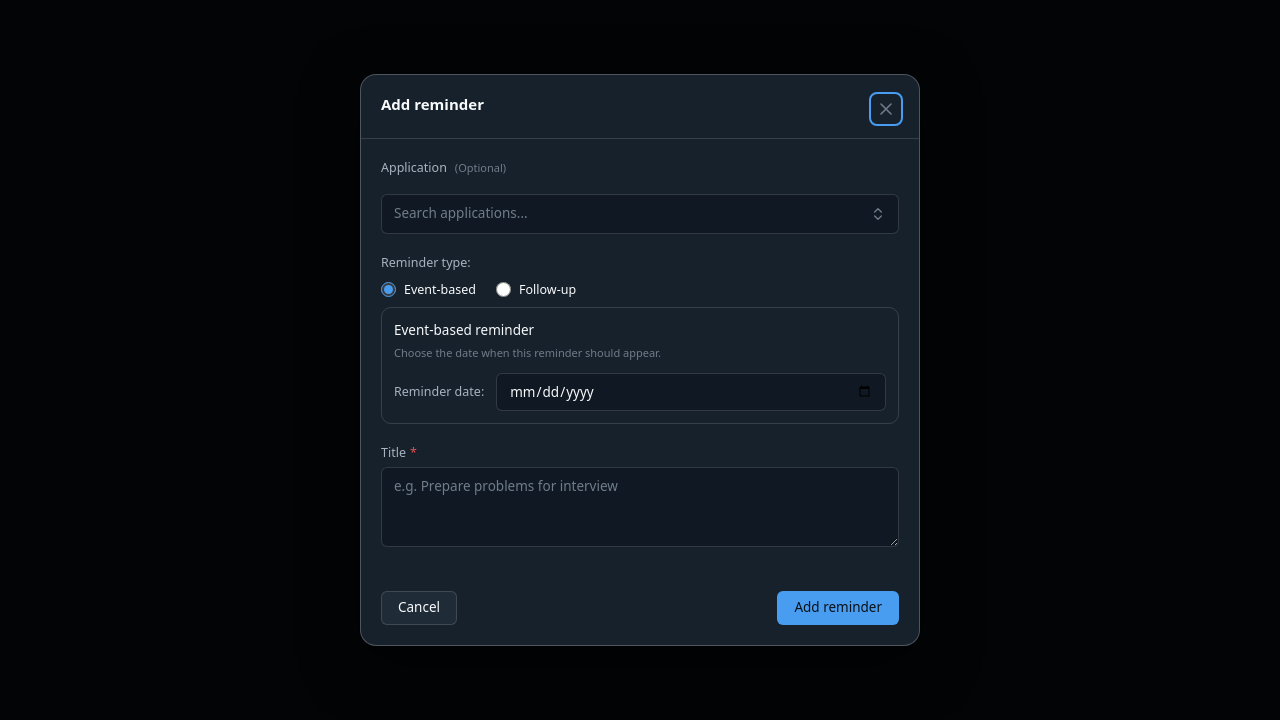
Scenario: ReminderModal › FOLLOW_UP type › switches to follow-up fields when radio is selected
The width and height of the screenshot is (1280, 720).
Click the radio button labelled "Follow-up" at (504, 290), box [496, 282, 511, 297]
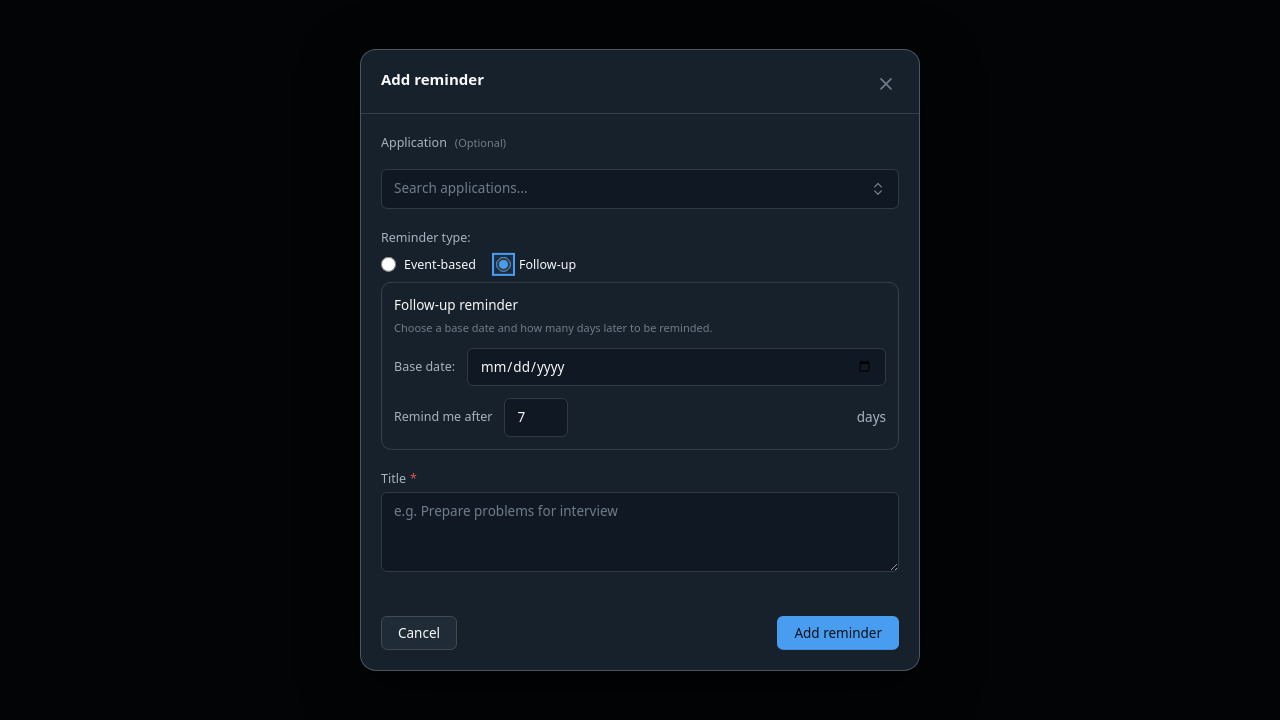
Now the text "Follow-up reminder" is shown, box [394, 296, 518, 314]
Now the number field is shown, box [504, 398, 568, 436]
